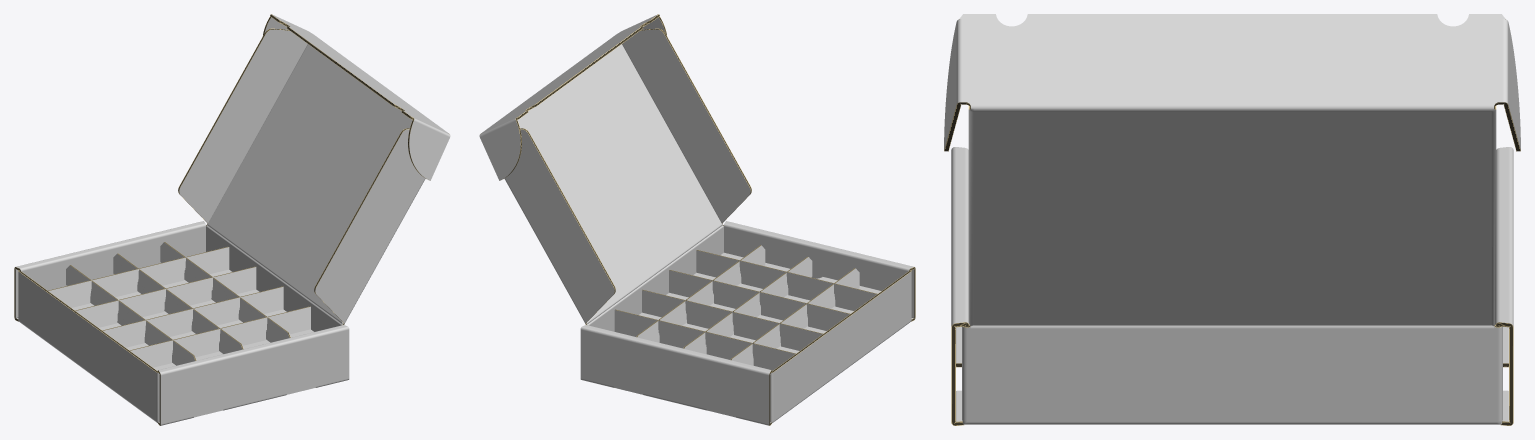
File: Troquel1G0102.gltf
3 renders of one model, left to right at view 1: azimuth 30°, elevation 25°; view 2: azimuth 150°, elevation 25°; view 3: azimuth 270°, elevation 25°, orthographic. The views are drawn at different scales.
Visible parts, largest first — view 1: _1G0102_ARD-node, _1P0011_ARD-node.007, _1P0011_ARD-node.006, _1P0011_ARD-node.005, _1P0011_ARD-node.004, _1P0011_ARD_D2-node.005, _1P0011_ARD_D2-node.004, _1P0011_ARD_D2-node.003, _1P0011---1_ARD-node; view 2: _1G0102_ARD-node, _1P0011_ARD-node.004, _1P0011_ARD-node.005, _1P0011_ARD-node.006, _1P0011_ARD-node.007, _1P0011_ARD_D2-node.005, _1P0011_ARD_D2-node.004, _1P0011_ARD_D2-node.003, _1P0011---1_ARD-node; view 3: _1G0102_ARD-node.
Part boxes in pixels (x1=…): _1G0102_ARD-node: x1=14, y1=14, x2=450, y2=425; _1P0011_ARD-node.007: x1=48, y1=246, x2=229, y2=307; _1P0011_ARD-node.006: x1=75, y1=266, x2=256, y2=327; _1P0011_ARD-node.005: x1=102, y1=286, x2=283, y2=347; _1P0011_ARD-node.004: x1=129, y1=306, x2=310, y2=367; _1P0011_ARD_D2-node.005: x1=160, y1=242, x2=290, y2=342; _1P0011_ARD_D2-node.004: x1=113, y1=253, x2=243, y2=353; _1P0011_ARD_D2-node.003: x1=66, y1=265, x2=196, y2=365; _1P0011---1_ARD-node: x1=72, y1=269, x2=313, y2=370; _1G0102_ARD-node: x1=479, y1=14, x2=915, y2=425; _1P0011_ARD-node.004: x1=696, y1=250, x2=877, y2=310; _1P0011_ARD-node.005: x1=669, y1=270, x2=850, y2=330; _1P0011_ARD-node.006: x1=642, y1=289, x2=822, y2=350; _1P0011_ARD-node.007: x1=614, y1=309, x2=795, y2=370; _1P0011_ARD_D2-node.005: x1=636, y1=245, x2=765, y2=342; _1P0011_ARD_D2-node.004: x1=683, y1=256, x2=812, y2=353; _1P0011_ARD_D2-node.003: x1=730, y1=268, x2=859, y2=365; _1P0011---1_ARD-node: x1=639, y1=252, x2=881, y2=353; _1G0102_ARD-node: x1=944, y1=14, x2=1520, y2=425.
Size of the model in its own units: 0.4507 by 0.3602 by 0.3982.
Materials: 8 (4 with a texture image).
